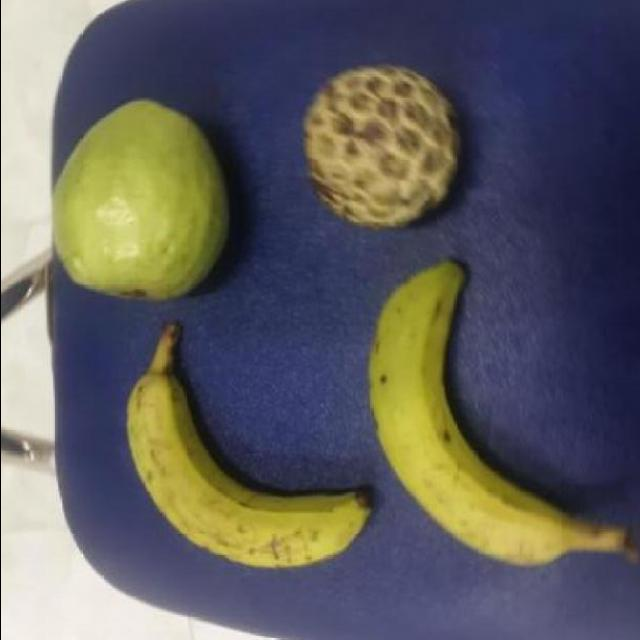banana: (368, 244, 592, 546), (129, 316, 372, 562)
guava: (49, 97, 233, 300)
sugar apple: (302, 56, 462, 228)
